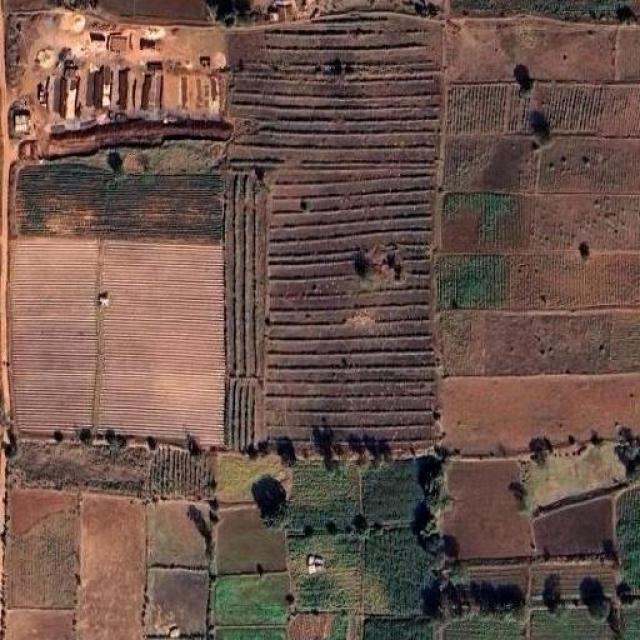land-Sx1C: (229, 12, 442, 443), (99, 241, 224, 444), (10, 239, 98, 431), (444, 373, 640, 455), (15, 164, 221, 238), (439, 309, 640, 375), (445, 16, 638, 82), (450, 82, 640, 145), (438, 251, 640, 309), (224, 171, 266, 449), (442, 194, 640, 251), (76, 494, 146, 639), (441, 459, 531, 559), (8, 489, 78, 608), (10, 440, 150, 496), (523, 444, 625, 509), (364, 528, 434, 613), (422, 563, 528, 618), (289, 532, 361, 609), (442, 191, 534, 251), (539, 138, 640, 192), (215, 451, 292, 519), (289, 461, 360, 534), (215, 506, 288, 574), (534, 495, 614, 556), (145, 570, 207, 639), (148, 501, 209, 568), (531, 559, 615, 606), (214, 573, 288, 626), (362, 459, 422, 521), (150, 445, 215, 499), (471, 138, 535, 189), (445, 136, 502, 188), (531, 608, 612, 640), (99, 0, 206, 21), (288, 610, 362, 640), (6, 609, 74, 640), (442, 618, 522, 639), (363, 616, 432, 640), (288, 612, 332, 640), (215, 626, 288, 640), (625, 608, 640, 639), (444, 625, 456, 639)
